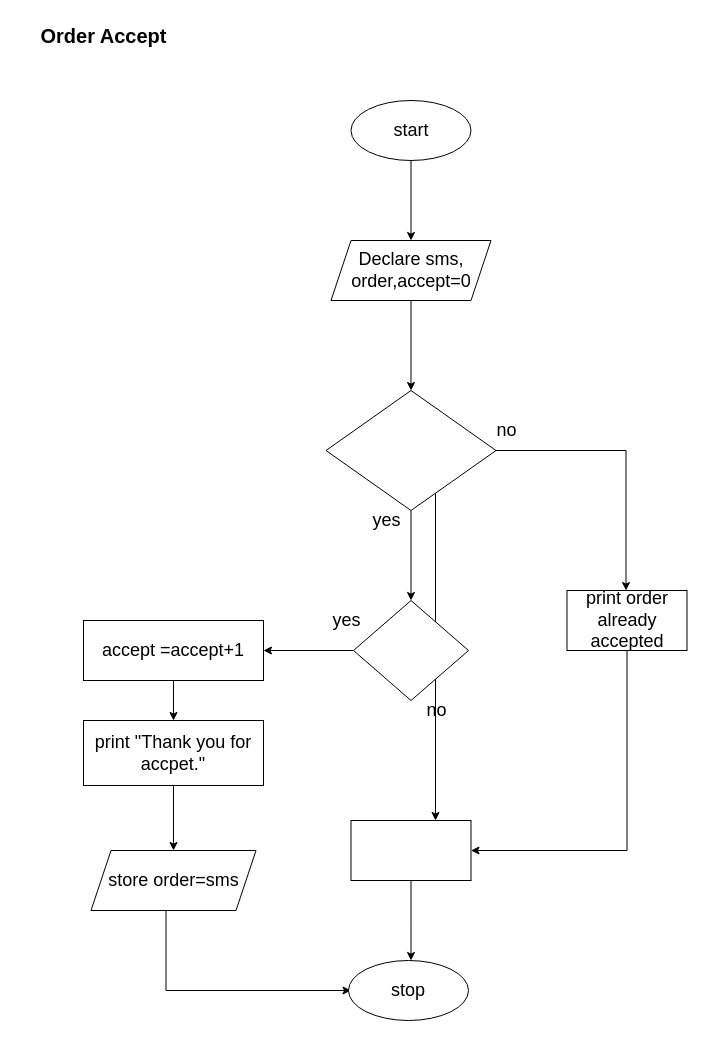
This 704x1038 diagram has some shape labels left out. Each missing label, with the centre of its shape:
if accept==0: point (410, 450)
if sms==yes: point (410, 650)
print "Thank You for resp.": point (410, 850)
